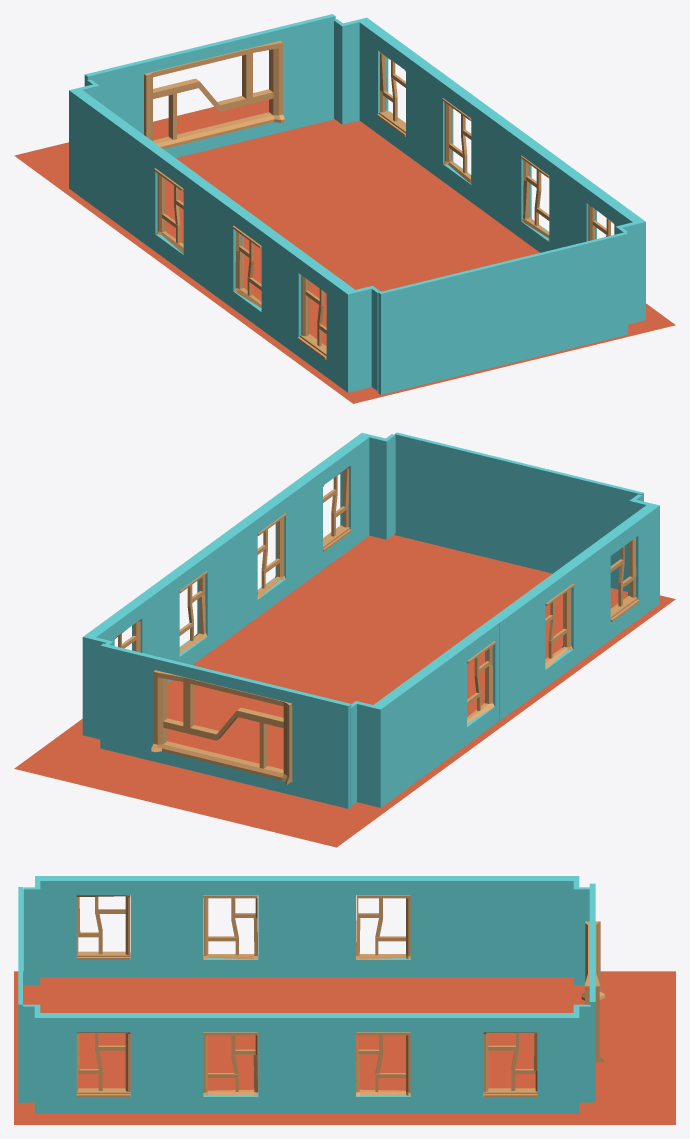
File: Kelas 1.fbx
The picture shows the model from 3 angles, top to bottom: view 1: azimuth 30°, elevation 25°; view 2: azimuth 150°, elevation 25°; view 3: azimuth 270°, elevation 25°; orthographic projection. The views are drawn at different scales.
Visible parts, largest first — view 1: Plane, Cube.011, Cube.009, Cube.006, Cube.001, Cube.012, Cube.003, Cube.004, Cube.002, Cube.008, Cube.013, Cube.010 (+2 smaller); view 2: Plane, Cube.011, Cube.006, Cube.003, Cube.009, Cube.012, Cube.001, Cube.004, Cube.007, Cube.010, Cube.008, Cube.005 (+2 smaller); view 3: Plane, Cube.006, Cube.009, Cube.012, Cube.001, Cube.008, Cube.005, Cube, Cube.010, Cube.007, Cube.002, Cube.013 (+3 smaller).
Boxes of the visible parts, bbox=[...] form: Plane: bbox=[14, 99, 675, 403]; Cube.011: bbox=[378, 232, 627, 394]; Cube.009: bbox=[188, 175, 380, 392]; Cube.006: bbox=[475, 105, 645, 329]; Cube.001: bbox=[334, 17, 485, 204]; Cube.012: bbox=[69, 79, 197, 275]; Cube.003: bbox=[84, 14, 335, 157]; Cube.004: bbox=[144, 40, 284, 148]; Cube.002: bbox=[442, 98, 471, 183]; Cube.008: bbox=[297, 274, 326, 359]; Cube.013: bbox=[154, 168, 183, 253]; Cube.010: bbox=[232, 226, 261, 310]; Plane: bbox=[14, 534, 675, 847]; Cube.011: bbox=[394, 432, 643, 591]; Cube.006: bbox=[202, 433, 395, 649]; Cube.003: bbox=[100, 643, 351, 808]; Cube.009: bbox=[490, 494, 659, 720]; Cube.012: bbox=[350, 620, 499, 807]; Cube.001: bbox=[82, 550, 212, 739]; Cube.004: bbox=[151, 670, 292, 784]; Cube.007: bbox=[257, 513, 286, 598]; Cube.010: bbox=[545, 583, 574, 668]; Cube.008: bbox=[610, 536, 639, 621]; Cube.005: bbox=[323, 466, 351, 551]; Plane: bbox=[14, 971, 675, 1124]; Cube.006: bbox=[23, 1004, 346, 1113]; Cube.009: bbox=[23, 876, 346, 984]; Cube.012: bbox=[345, 876, 589, 984]; Cube.001: bbox=[345, 1004, 590, 1113]; Cube.008: bbox=[76, 895, 130, 959]; Cube.005: bbox=[76, 1032, 130, 1096]; Cube: bbox=[483, 1032, 537, 1096]; Cube.010: bbox=[203, 895, 257, 959]; Cube.007: bbox=[203, 1032, 257, 1096]; Cube.002: bbox=[356, 1032, 410, 1096]; Cube.013: bbox=[356, 895, 410, 959].
Bounding box in the file's own units: 23820 × 7418 × 43370.
